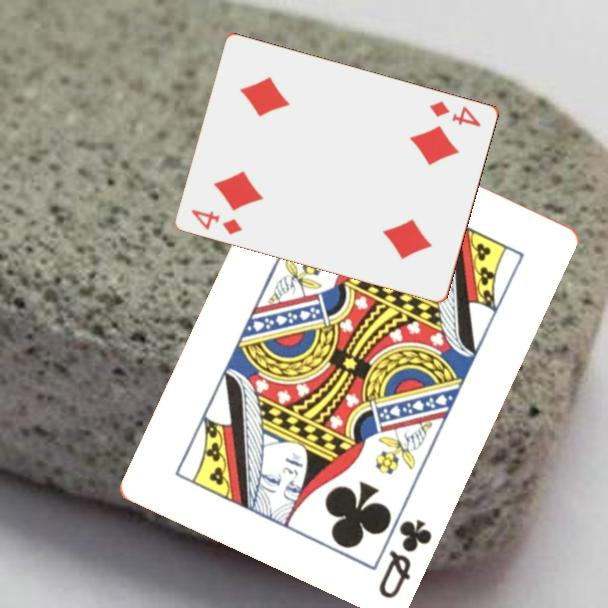c12: (375, 515, 435, 601)
d04: (426, 97, 484, 129), (188, 205, 246, 237)
